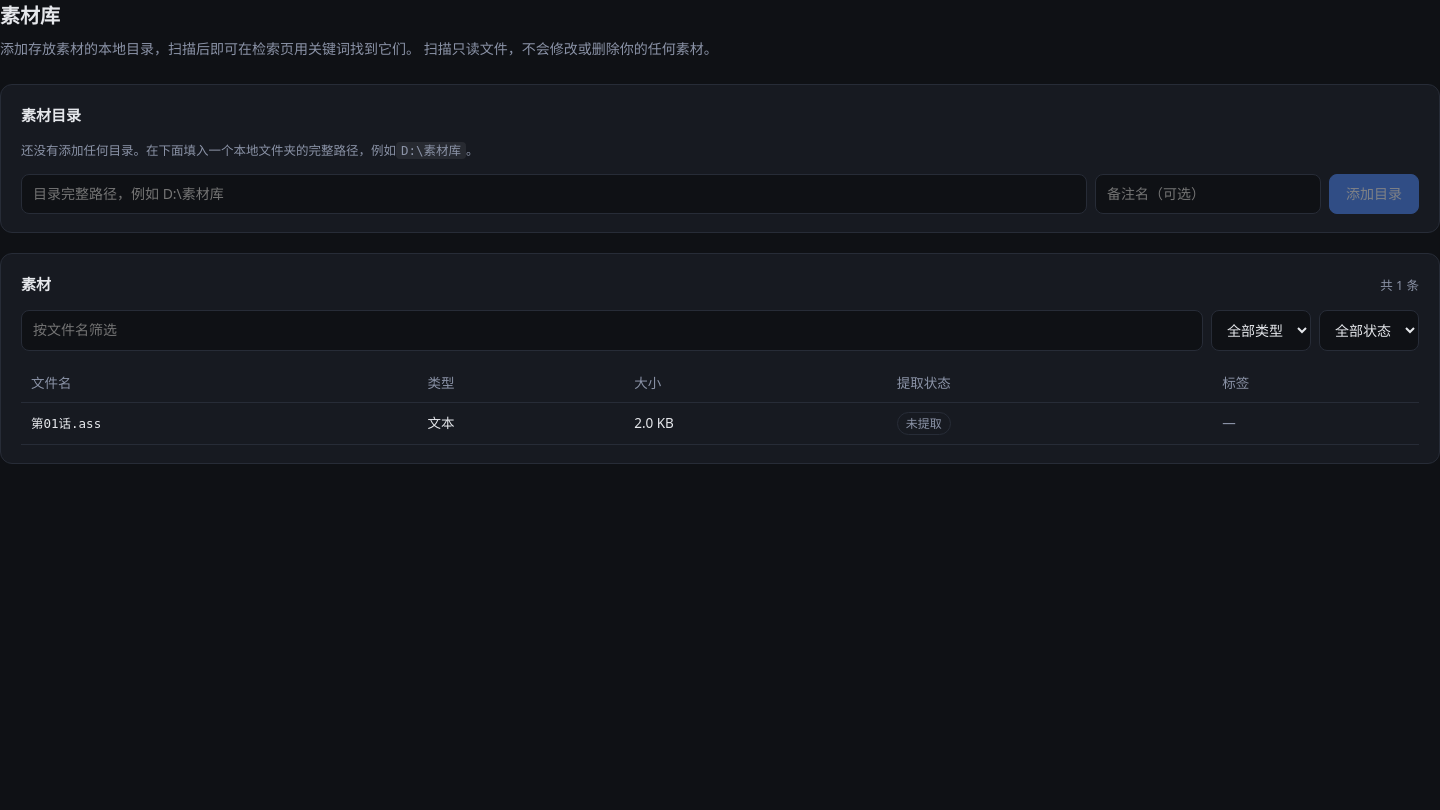
Scenario: 素材库页面 › 提取入口 › 字幕：导入后把带时间轴的文本显示出来
Click the text "第01话.ass" at point(219, 424), box [21,403,418,445]
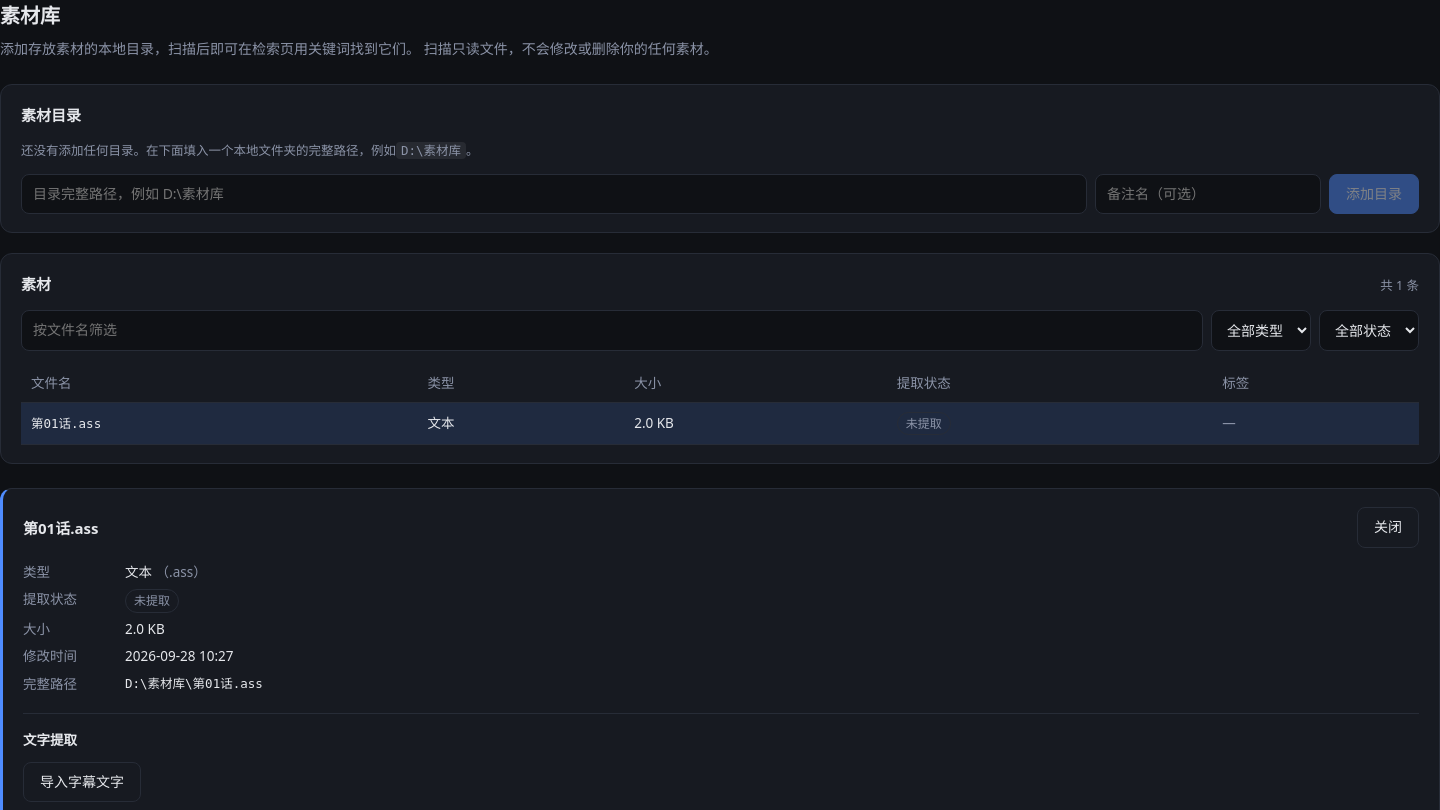
Click the button "导入字幕文字" at point(82, 782), box [23,762,141,802]
(page scrolled)
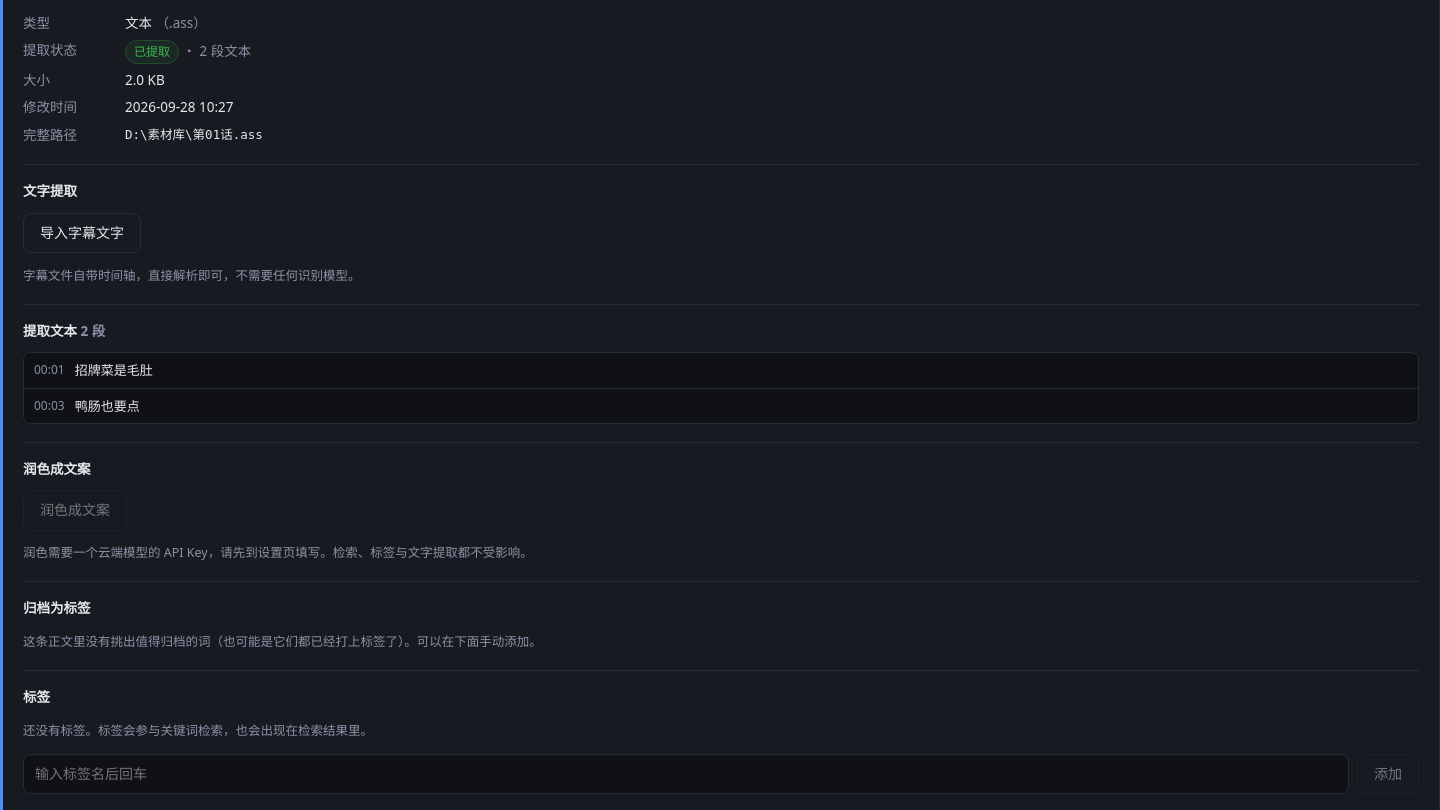
Check: the text "招牌菜是毛肚" is shown, box [75,360,153,381]
Check: the text "00:01" is shown, box [34,360,65,381]
Check: the text "00:03" is shown, box [34,396,65,416]
